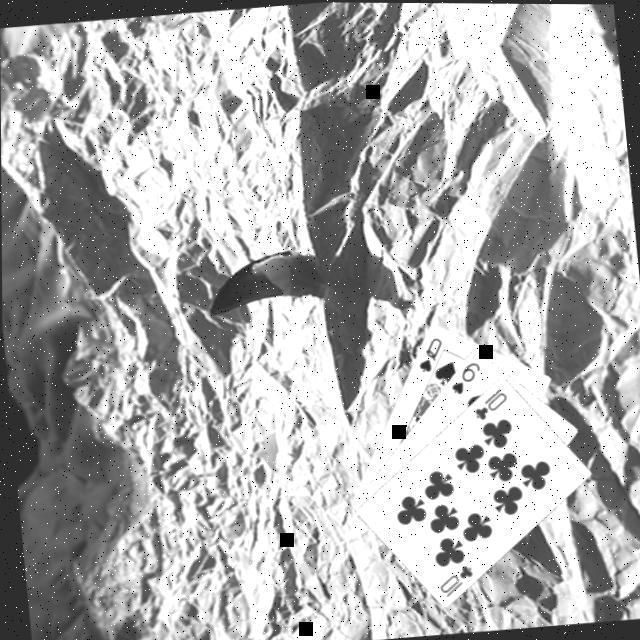10C: (432, 560, 476, 600), (467, 384, 510, 423)
6S: (444, 358, 484, 397)
QS: (410, 333, 446, 376)
